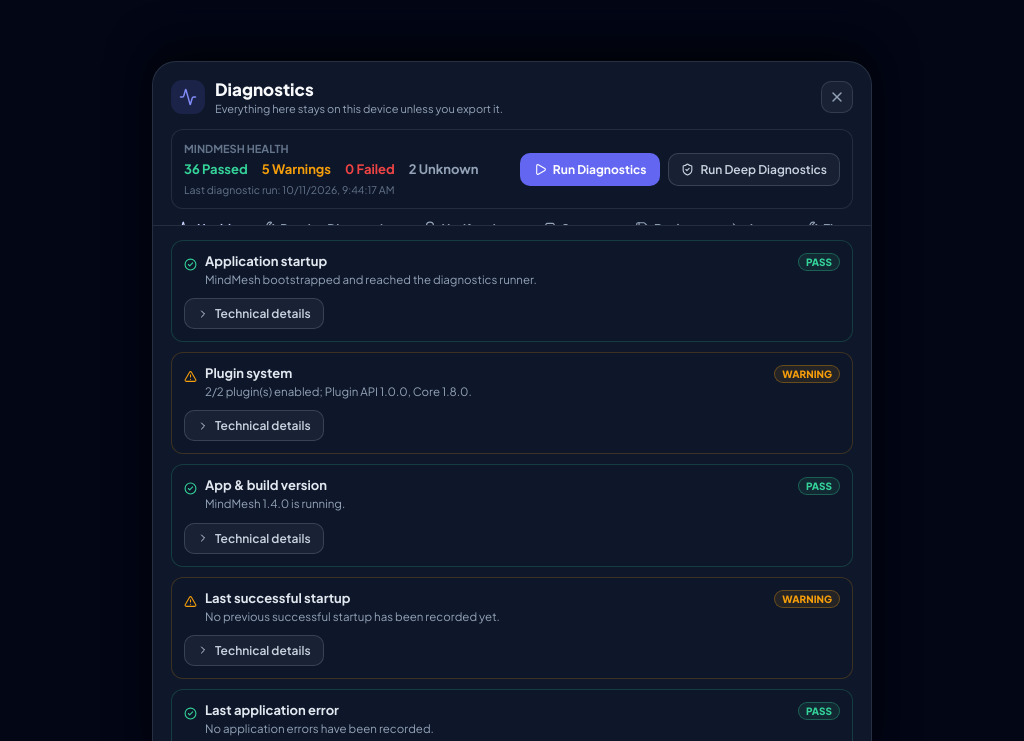
Test: DiagnosticsModal › shows real check results with statuses and expandable details
Expected: the text "36 Passed" is shown, top-left (184, 162), bottom-right (248, 178)
Expected: the text "App & build version" is shown, top-left (205, 477), bottom-right (327, 493)
Click the button "Technical details" below "MindMesh 1.4.0 is running.": (254, 538) top-left (184, 523), bottom-right (324, 554)
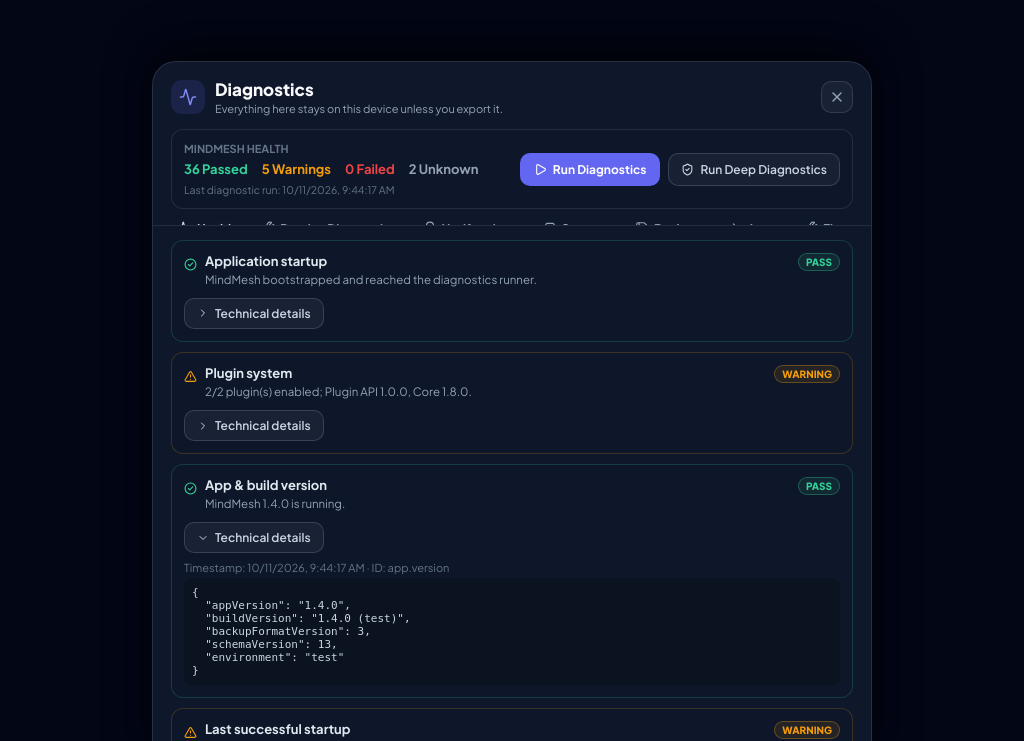
Expected: the text "\"appVersion\"" shows "schemaVersion", top-left (192, 586), bottom-right (411, 677)
